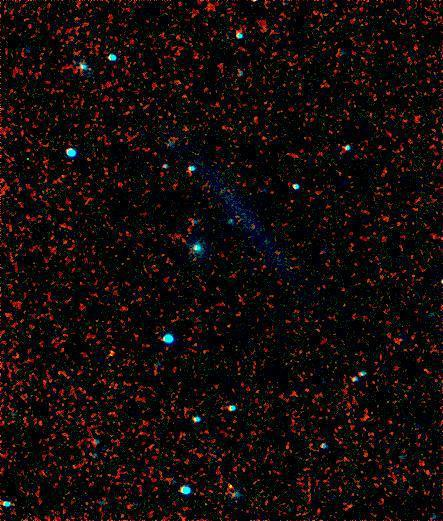star: (214, 474, 244, 504)
